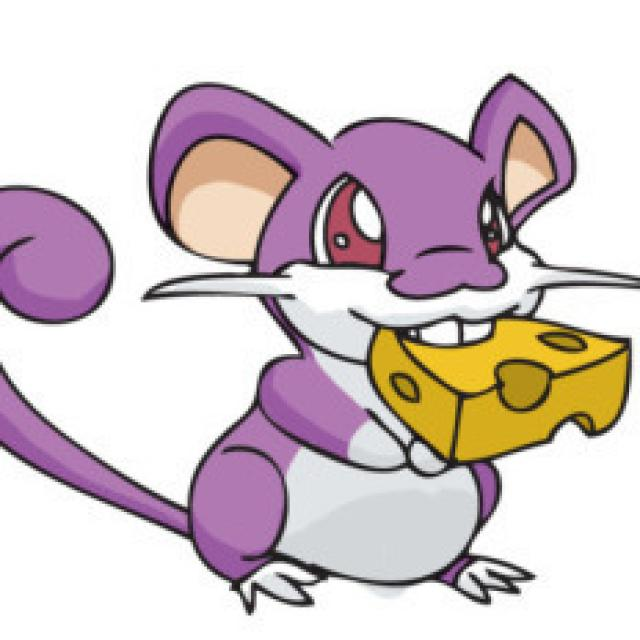Rattata: (157, 84, 573, 615)
